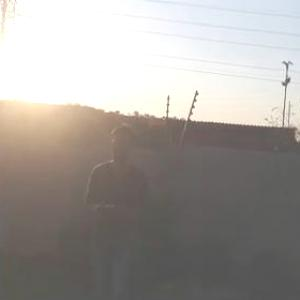follow: (84, 116, 158, 299)
